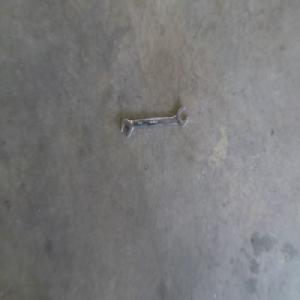Wrench: (115, 105, 193, 140)
